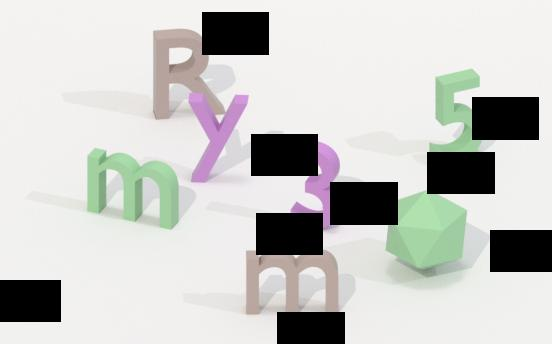3: (289, 133, 343, 233)
5: (426, 63, 488, 167)
R-hoa: (146, 27, 226, 127)
Y: (184, 88, 249, 182)
dagiac: (383, 183, 470, 274)
m: (84, 142, 183, 234), (237, 243, 341, 316)
